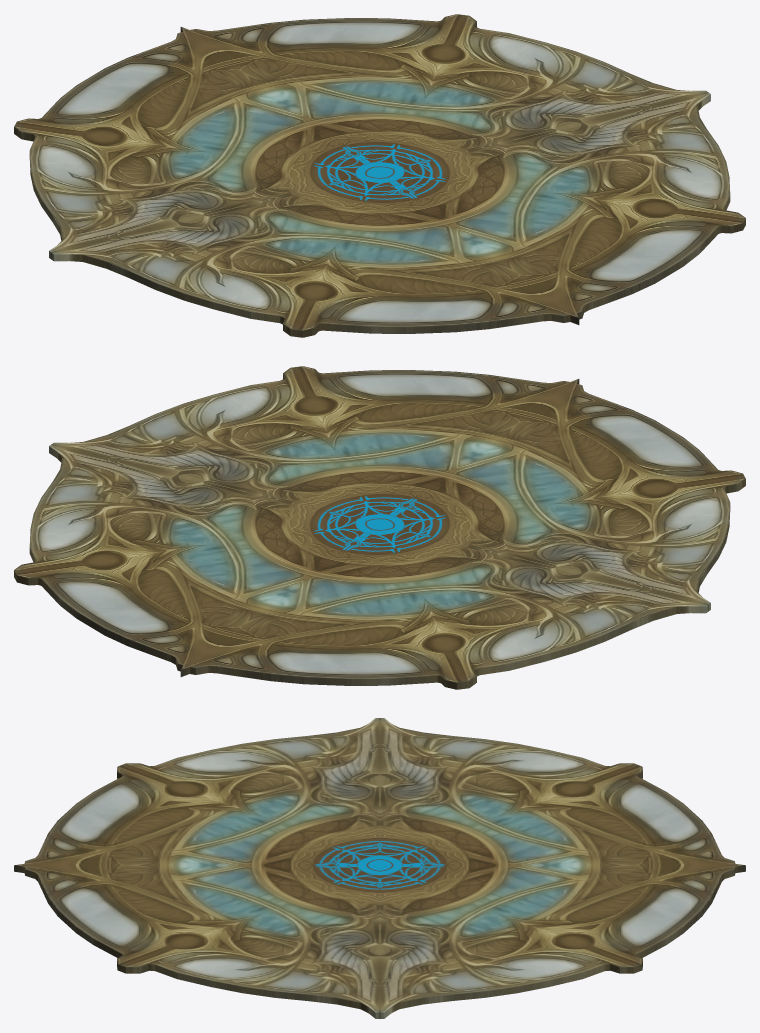
File: SM_Town012_DIT.FBX
3 views of the same model, one above another, from view 1: azimuth 30°, elevation 25°; view 2: azimuth 150°, elevation 25°; view 3: azimuth 270°, elevation 25° (orthographic). The views are drawn at different scales.
Visible parts, largest first — view 1: SM_Town012_DIT; view 2: SM_Town012_DIT; view 3: SM_Town012_DIT.
Boxes of the visible parts, x1=… form: SM_Town012_DIT: x1=14, y1=14, x2=745, y2=337; SM_Town012_DIT: x1=14, y1=366, x2=745, y2=689; SM_Town012_DIT: x1=14, y1=718, x2=745, y2=1018.
Size of the model in its own units: 2234 by 22.63 by 2347.
1 material, 1 textured.
